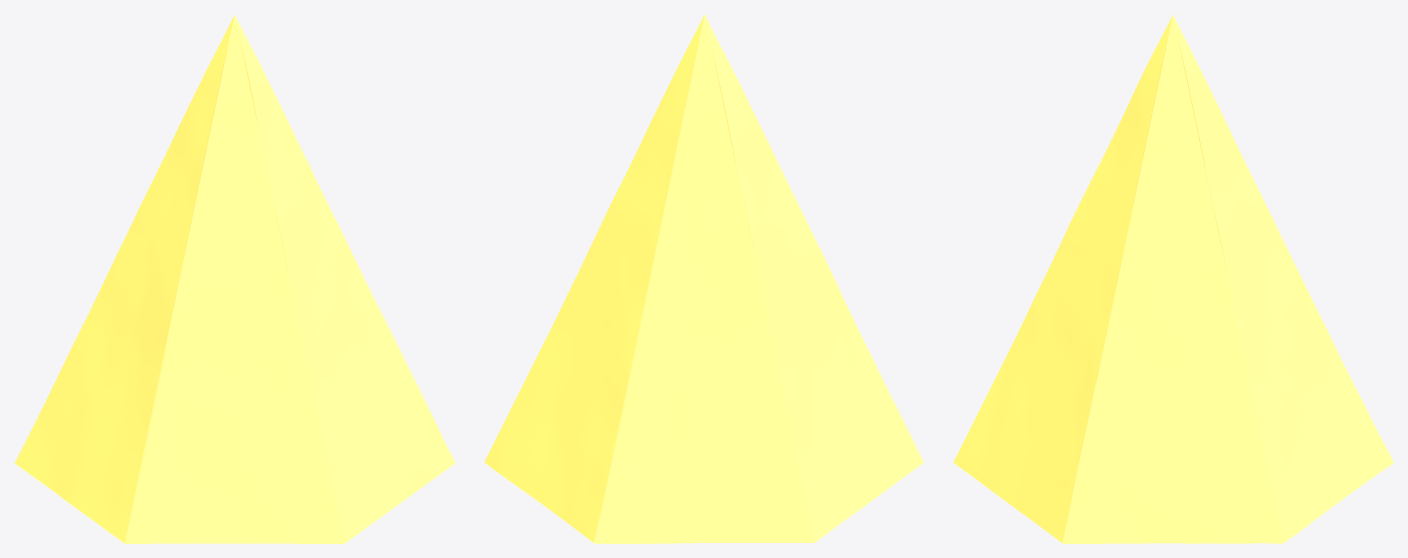
Rendered from ship.glb.
3 views of the same model, side by side, from view 1: azimuth 30°, elevation 25°; view 2: azimuth 150°, elevation 25°; view 3: azimuth 270°, elevation 25° (orthographic).
Visible parts, largest first — view 1: Ship; view 2: Ship; view 3: Ship.
Part boxes in pixels (bbox=[...]): Ship: bbox=[14, 15, 455, 543]; Ship: bbox=[484, 14, 923, 543]; Ship: bbox=[953, 14, 1393, 543].
Size of the model in its own units: 1.39 by 1.8 by 1.6.
